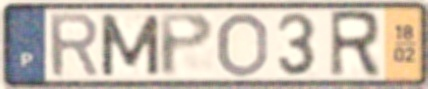3: (276, 10, 321, 79)
M: (97, 12, 163, 78)
O: (214, 10, 270, 79)
P: (156, 10, 217, 79)
R: (327, 8, 384, 81), (46, 10, 102, 80)
